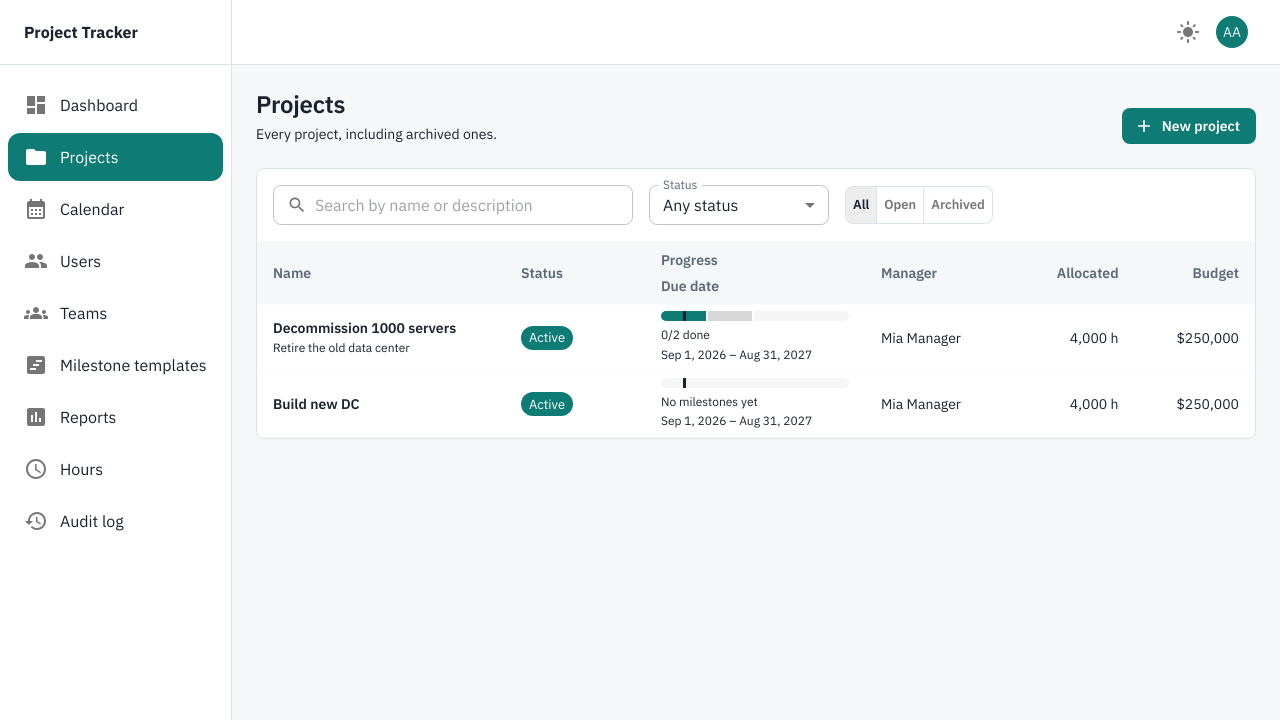
projects list › shows projects without a description or milestones, and opens a project on click
Expected: the text "No milestones yet" is shown, left=661, top=394, right=758, bottom=408
Step 1. Click the text "Decommission 1000 servers" → (365, 328), box left=273, top=319, right=456, bottom=337
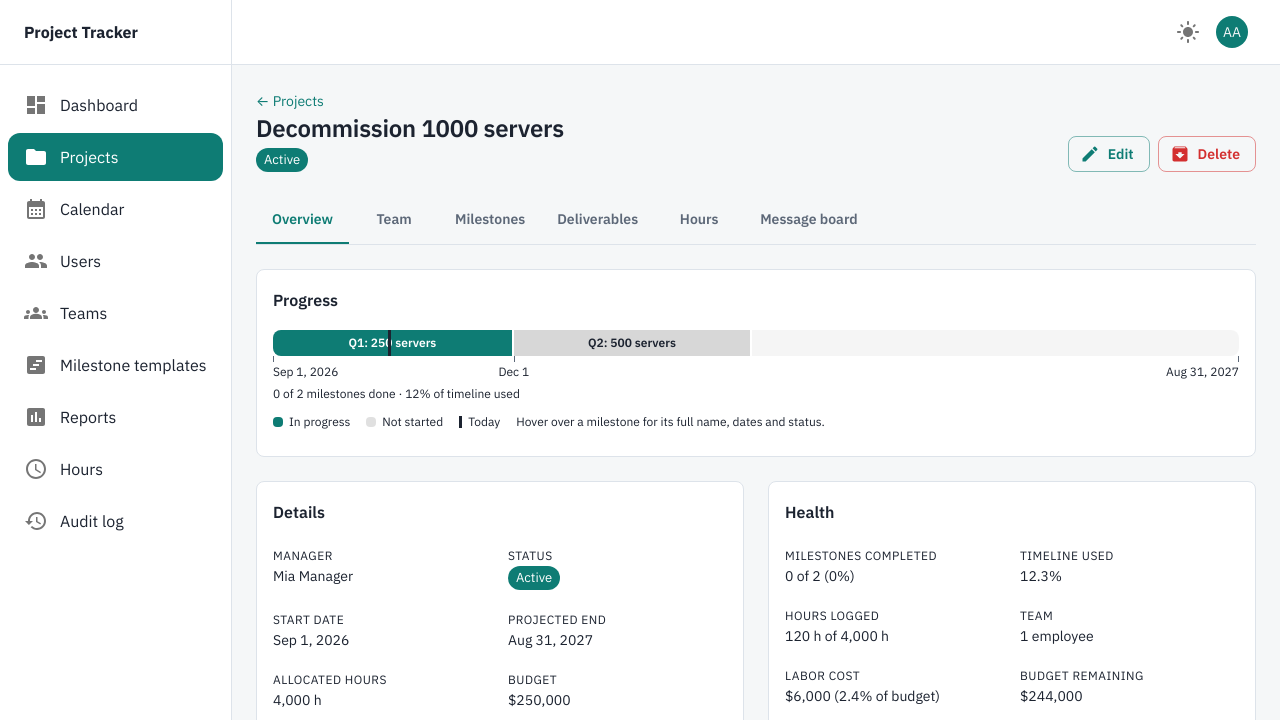
Now the heading "Decommission 1000 servers" is shown, box left=256, top=112, right=564, bottom=144
